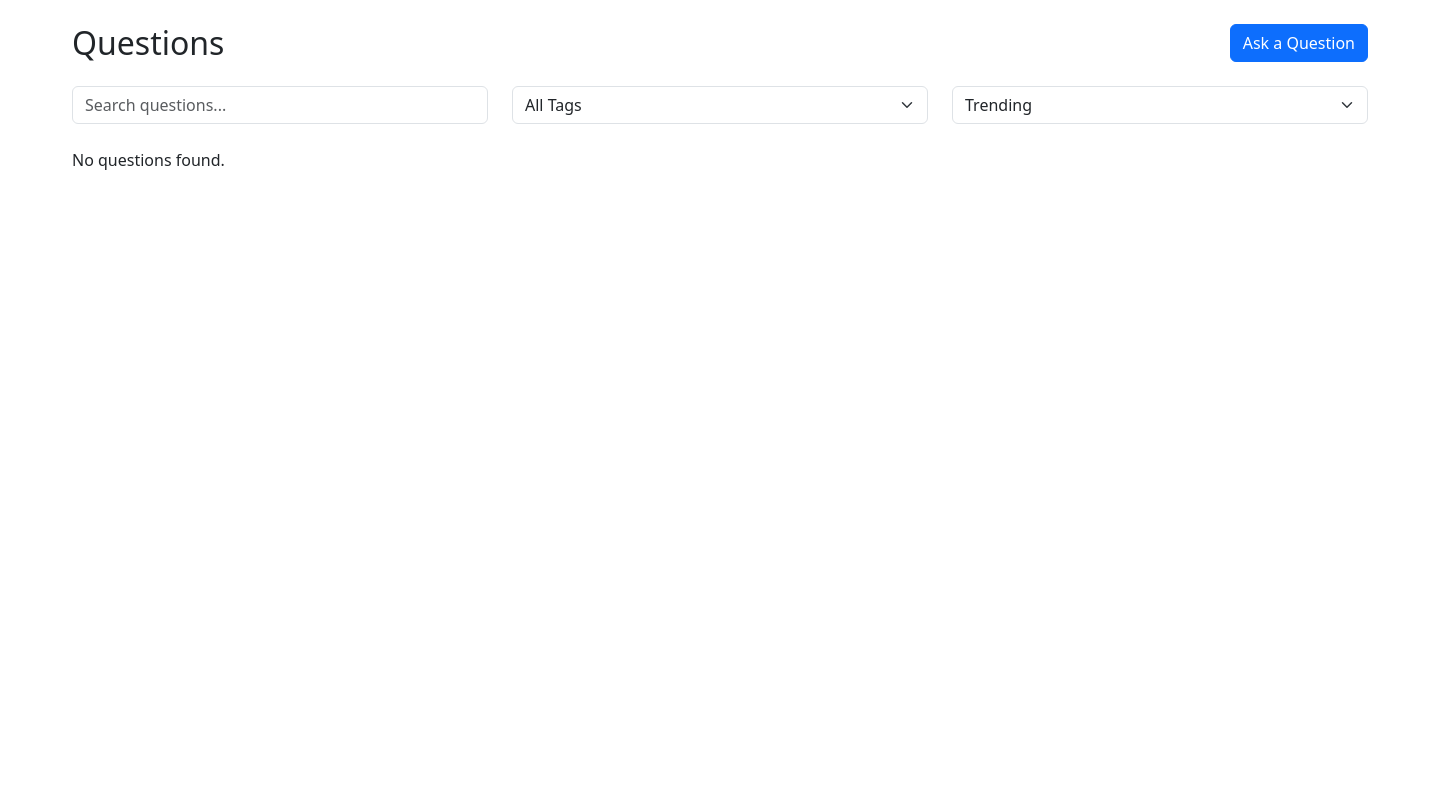
Test case: QuestionsFeed rating workflow › allows creating a rating question and renders the rating slider
The image size is (1440, 810).
Click the button "Ask a Question": coordinates (1299, 43) 1230,24 -> 1368,62
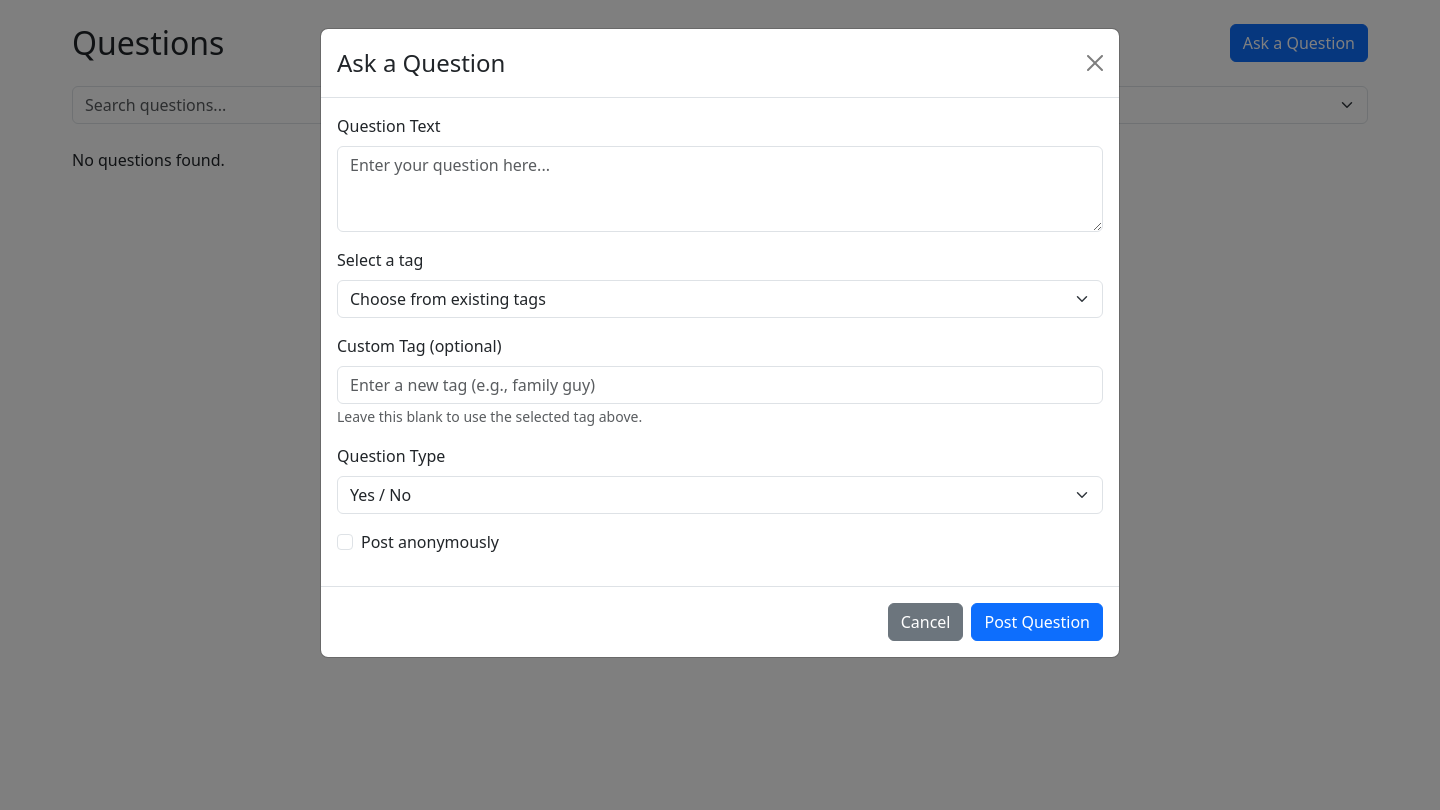
Select "Rating" in the dropdown labelled "Question Type": coordinates (720, 495) 337,476 -> 1103,514
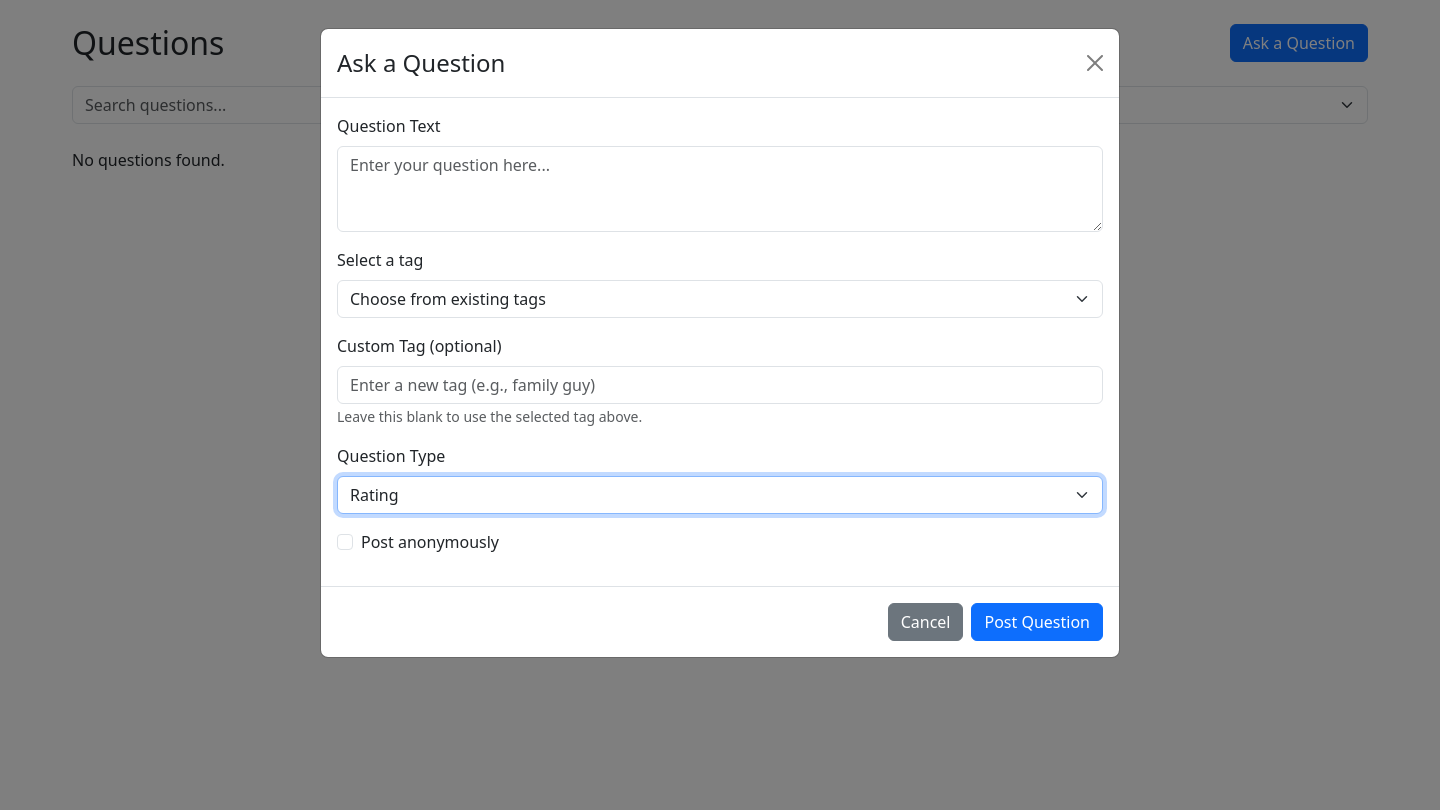
In the text box labelled "Question Text": coordinates (720, 189) 337,146 -> 1103,232, type "How would you rate this experience?"
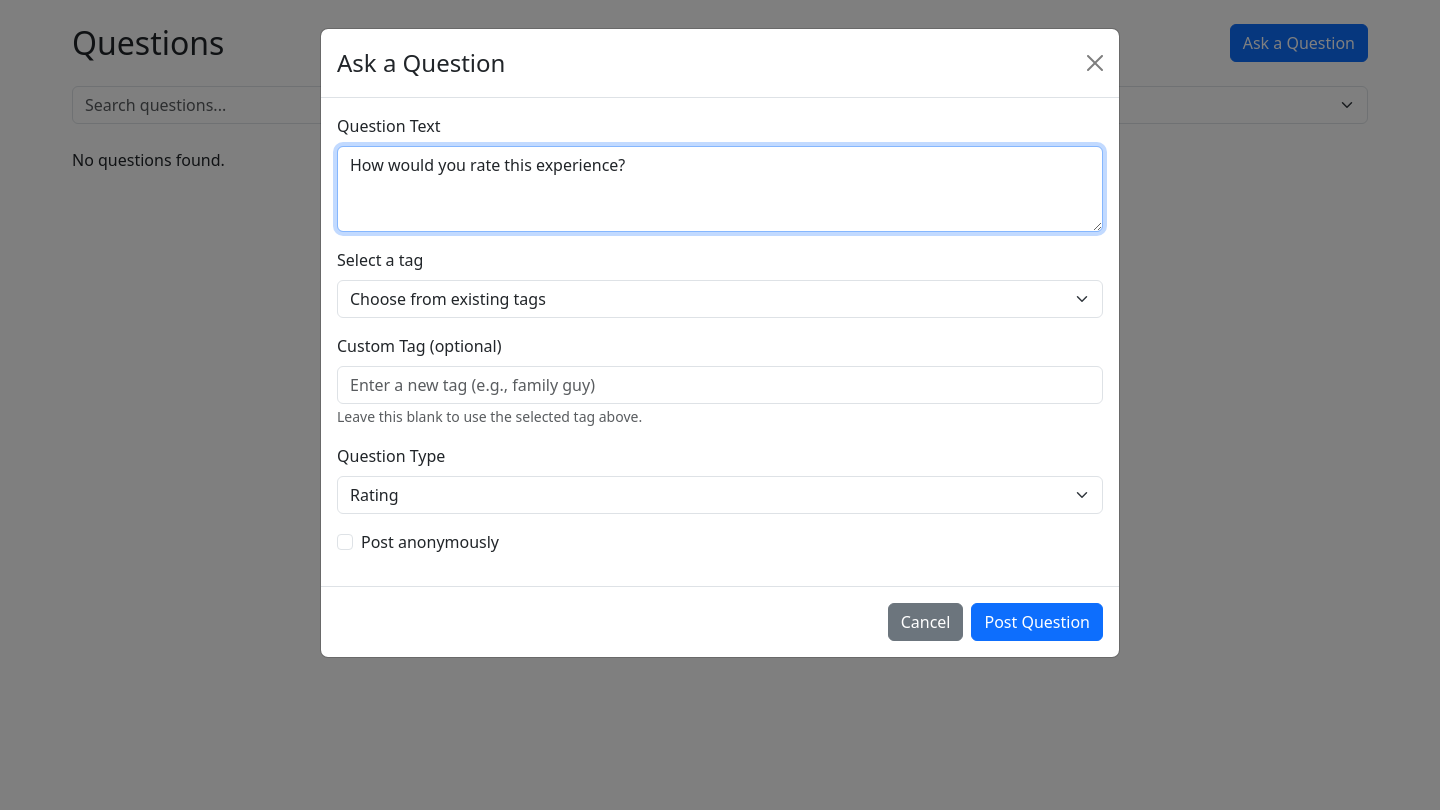
Click the button "Post Question": coordinates (1037, 622) 972,603 -> 1103,641
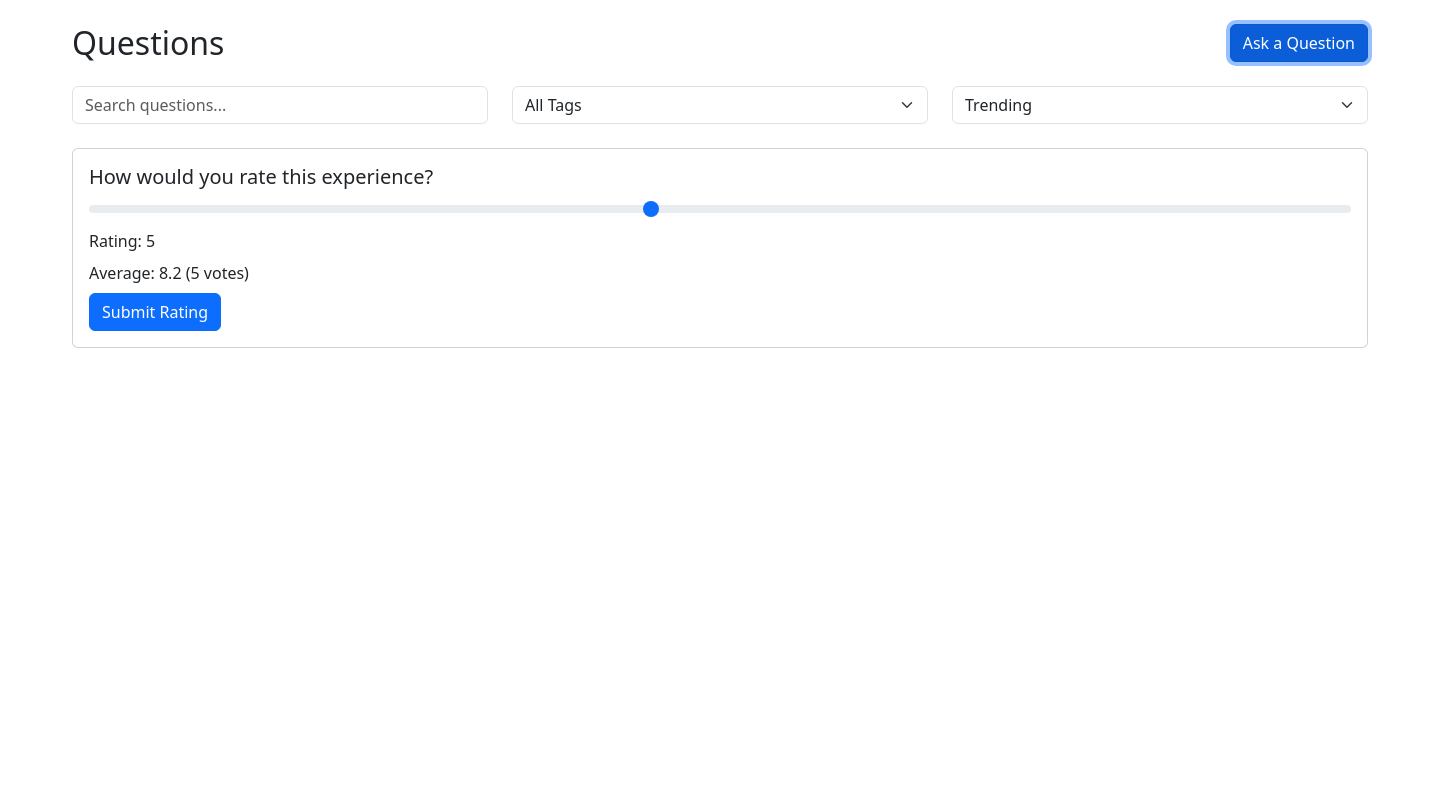
Now the slider named "rating slider" is shown, box 89,197 -> 1351,221
Now the text "How would you rate this experience?" is shown, box 89,163 -> 433,190
